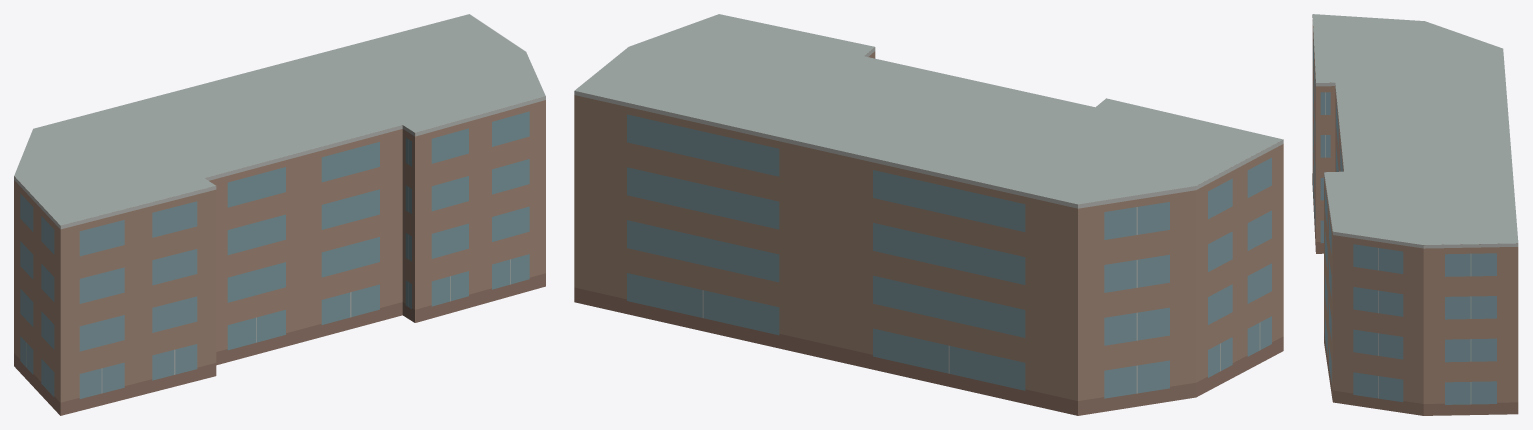
File: survey-upis-32740174.glb
The picture shows the model from 3 angles, left to right: view 1: azimuth 30°, elevation 25°; view 2: azimuth 150°, elevation 25°; view 3: azimuth 270°, elevation 25°; orthographic projection. The views are drawn at different scales.
Parts seen in each view (by area): view 1: survey-upis-32740174.tmp; view 2: survey-upis-32740174.tmp; view 3: survey-upis-32740174.tmp.
Boxes of the visible parts, x1,y1,x2,y2 form: survey-upis-32740174.tmp: (14, 14, 545, 415); survey-upis-32740174.tmp: (574, 14, 1283, 415); survey-upis-32740174.tmp: (1312, 14, 1518, 415).
Bounding box in the file's own units: 35.7 × 12.3 × 13.45.
